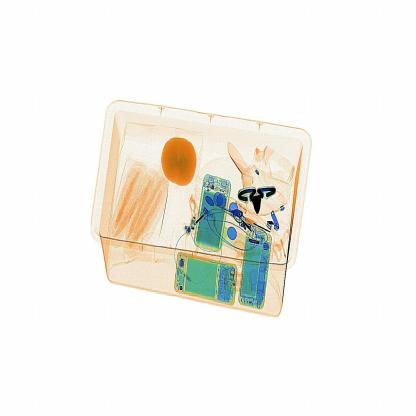gun: (238, 170, 287, 224)
